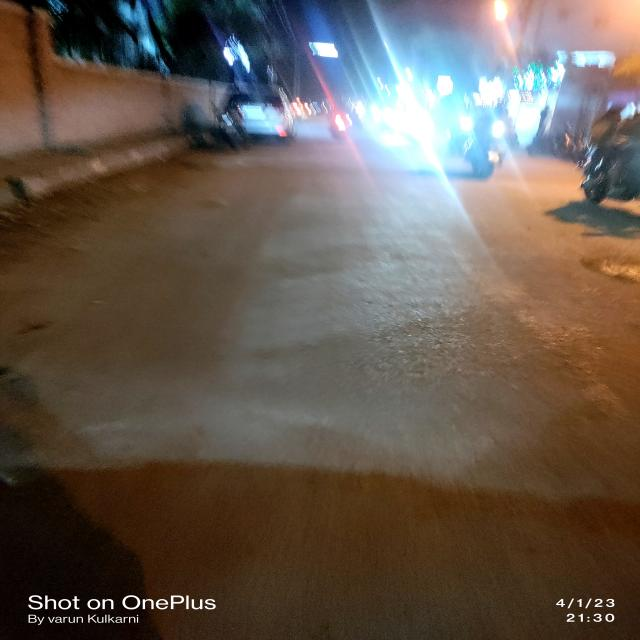potholes: (0, 354, 64, 459), (582, 251, 640, 294)
